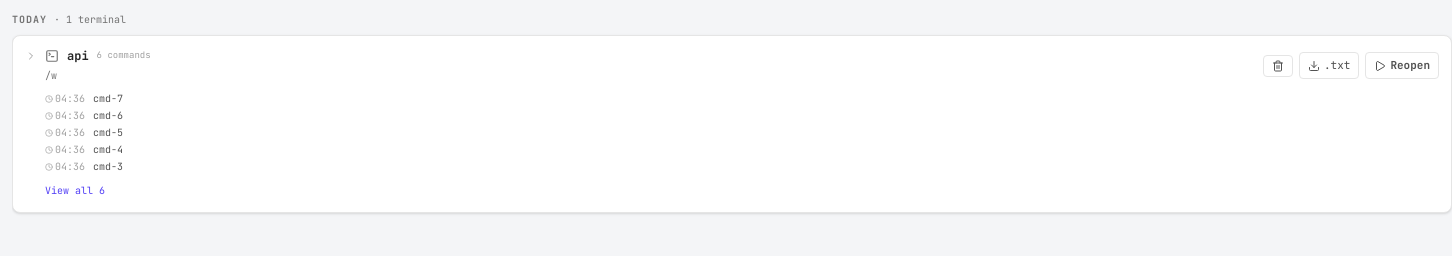
Scenario: TerminalHistoryView › lists the capped preview and loads a terminal in full only on View all
Expected: the text "cmd-7" is shown, 93,91 -> 123,106
Expected: the text "cmd-0" is not shown
Click the button "View all 6" at (75, 190), box 45,183 -> 105,198
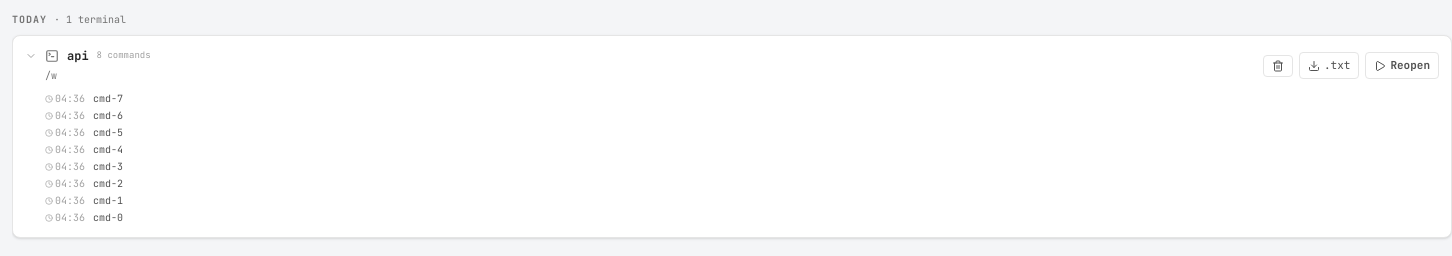
Expected: the text "cmd-0" is shown, 93,210 -> 123,225
